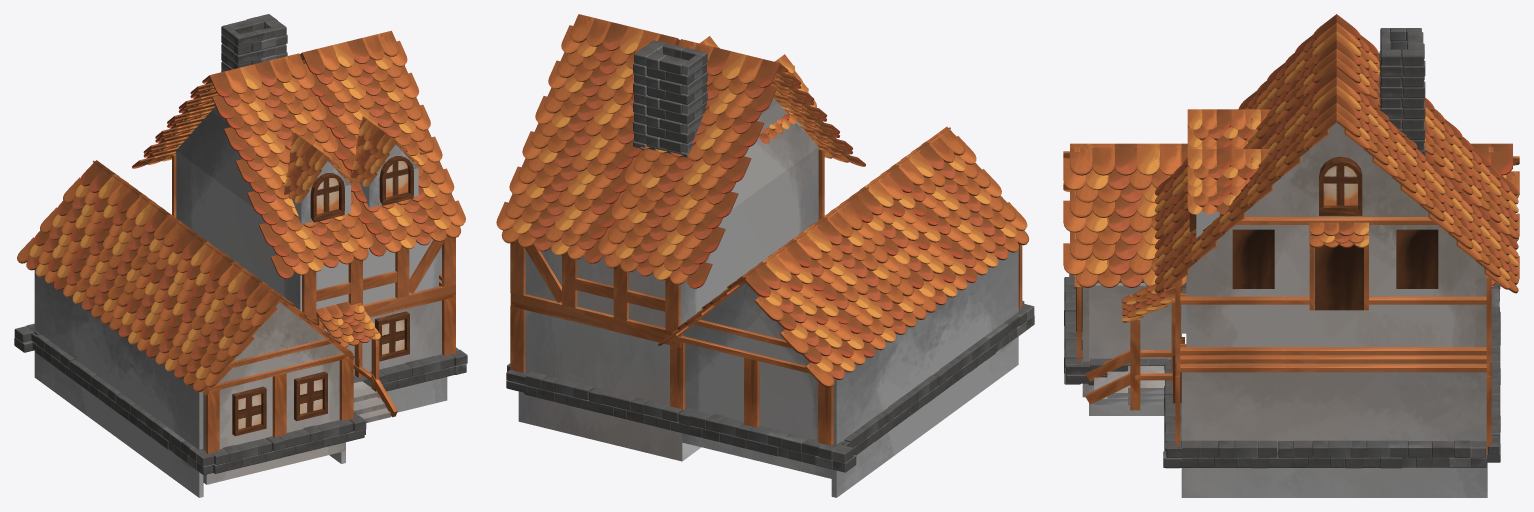
The model's file is O_nha`6.fbx.
3 views of the same model, side by side, from view 1: azimuth 30°, elevation 25°; view 2: azimuth 150°, elevation 25°; view 3: azimuth 270°, elevation 25° (orthographic). The views are drawn at different scales.
Parts seen in each view (by area): view 1: Cube.512, Cube.503, Cube.499, Cube.511, Cube.498, Cube.505, Cube.501, Cube.493, Cube.516, Cube.541, Cube.545, Cube.544 (+19 smaller); view 2: Cube.512, Cube.503, Cube.499, Cube.511, Cube.501, Cube.500, Cube.495, Cube.541, Cube.505, Cube.516, Cube.544, Cube.515 (+6 smaller); view 3: Cube.512, Cube.511, Cube.501, Cube.503, Cube.496, Cube.536, Cube.502, Cube.541, Cube.540, Cube.526, Cube.538, Cube.543 (+20 smaller).
Boxes of the visible parts, bbox=[...] form: Cube.512: bbox=[132, 30, 465, 278]; Cube.503: bbox=[17, 160, 352, 392]; Cube.499: bbox=[34, 269, 203, 497]; Cube.511: bbox=[176, 106, 441, 311]; Cube.498: bbox=[203, 302, 345, 484]; Cube.505: bbox=[31, 333, 213, 475]; Cube.501: bbox=[323, 300, 447, 412]; Cube.493: bbox=[211, 415, 366, 473]; Cube.516: bbox=[172, 153, 455, 319]; Cube.541: bbox=[221, 14, 287, 71]; Cube.545: bbox=[310, 156, 413, 222]; Cube.544: bbox=[205, 356, 353, 453]; Cube.512: bbox=[496, 14, 865, 288]; Cube.503: bbox=[657, 126, 1029, 387]; Cube.499: bbox=[831, 249, 1018, 497]; Cube.511: bbox=[525, 97, 818, 327]; Cube.501: bbox=[518, 310, 700, 461]; Cube.500: bbox=[682, 283, 831, 478]; Cube.495: bbox=[506, 370, 856, 472]; Cube.541: bbox=[633, 40, 707, 157]; Cube.505: bbox=[842, 303, 1034, 455]; Cube.516: bbox=[510, 147, 824, 332]; Cube.544: bbox=[670, 244, 1022, 445]; Cube.515: bbox=[510, 292, 682, 347]; Cube.512: bbox=[1154, 14, 1518, 293]; Cube.511: bbox=[1186, 122, 1486, 364]; Cube.501: bbox=[1181, 372, 1487, 497]; Cube.503: bbox=[1063, 143, 1519, 287]; Cube.496: bbox=[1163, 440, 1486, 468]; Cube.536: bbox=[1232, 229, 1438, 288]; Cube.502: bbox=[1089, 283, 1181, 415]; Cube.541: bbox=[1379, 28, 1425, 155]; Cube.540: bbox=[1187, 149, 1270, 214]; Cube.526: bbox=[1315, 244, 1363, 310]; Cube.538: bbox=[1187, 109, 1270, 148]; Cube.543: bbox=[1180, 344, 1486, 355].
Bounding box in the file's own units: 5517 × 5299 × 5518.
